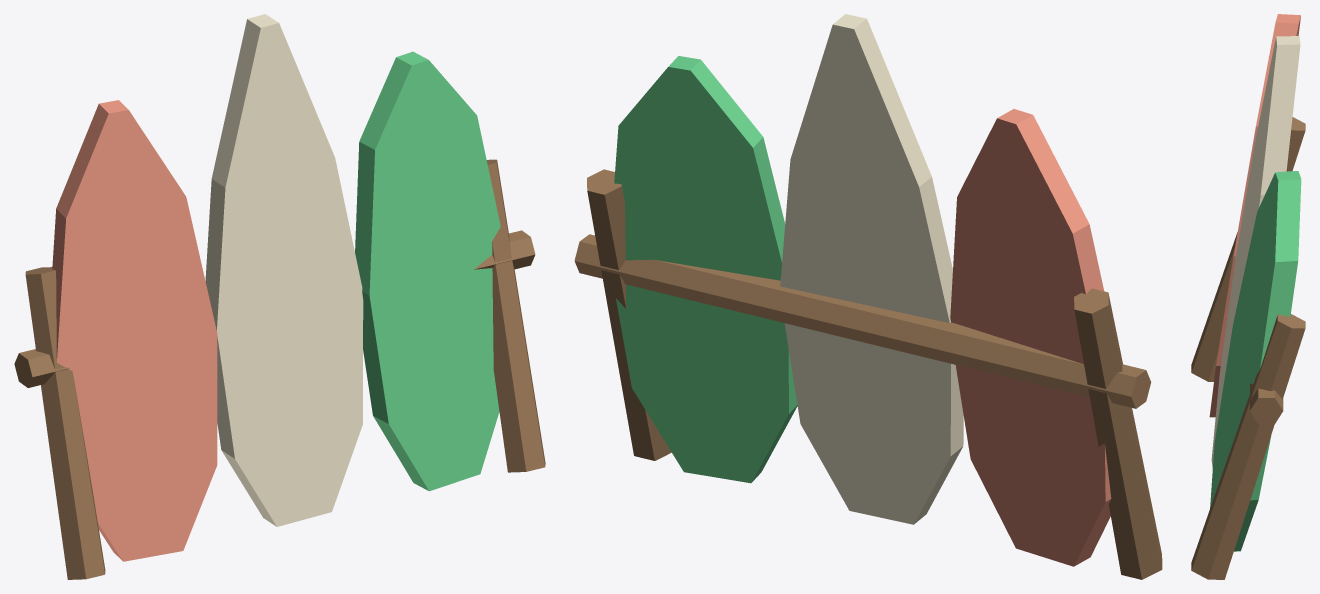
The model's file is SM_Trop_Surfboard_Rack.fbx.
3 renders of one model, left to right at view 1: azimuth 30°, elevation 25°; view 2: azimuth 150°, elevation 25°; view 3: azimuth 270°, elevation 25°, orthographic. The views are drawn at different scales.
Visible parts, largest first — view 1: SM_Trop_Surfboard_Rack; view 2: SM_Trop_Surfboard_Rack; view 3: SM_Trop_Surfboard_Rack.
Part boxes in pixels (x1,y1,x2,y2): SM_Trop_Surfboard_Rack: [14, 14, 545, 579]; SM_Trop_Surfboard_Rack: [574, 14, 1162, 579]; SM_Trop_Surfboard_Rack: [1191, 14, 1305, 579].
Bounding box in the file's own units: 320 × 68.23 × 288.
